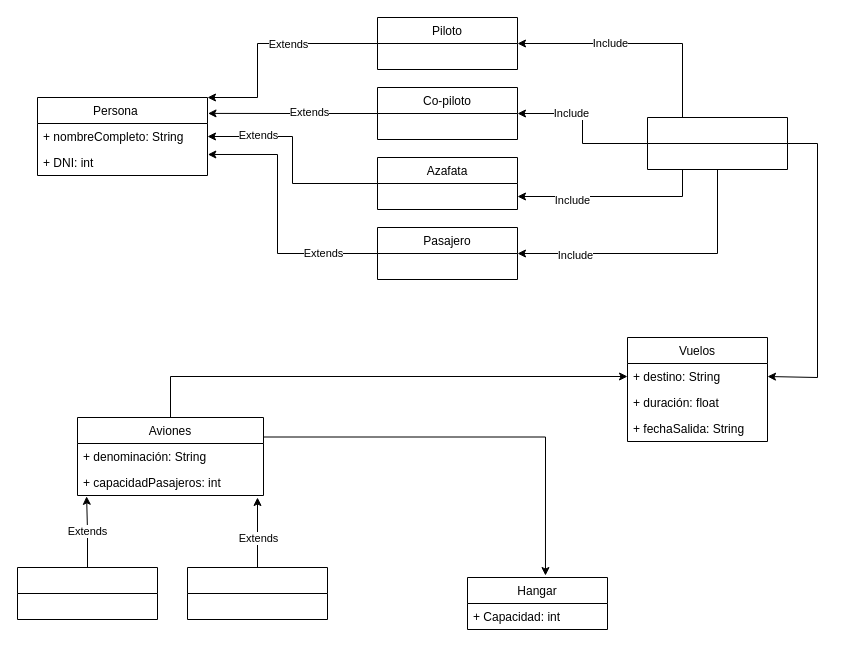
Some shapes in this 843 by 650 pixel diagram are drawn without their labels. The centre of each missing label's shape, as x and y in pixels:
"AvionComercial" goes at point 257,593.
"AvionPrivado" goes at point 87,593.
"Tripulacion" goes at point 717,143.
